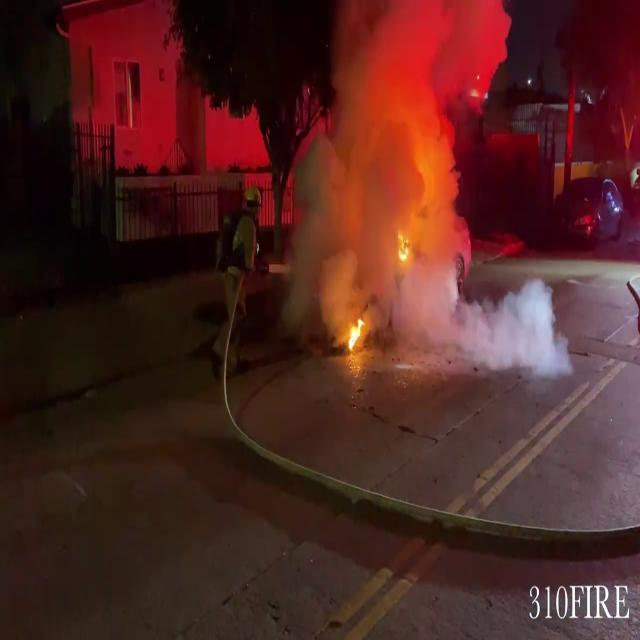Fire: (341, 309, 368, 359)
Smoke: (284, 0, 512, 315)
